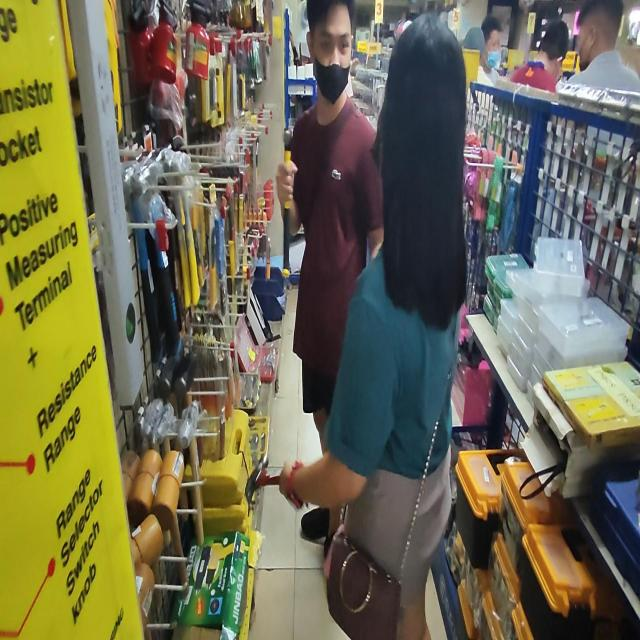hammer: (244, 459, 282, 504), (282, 127, 293, 278)
